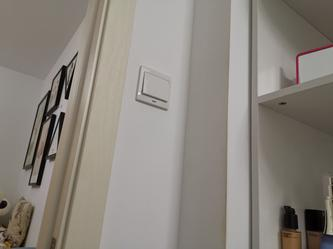switch: (139, 68, 173, 103)
